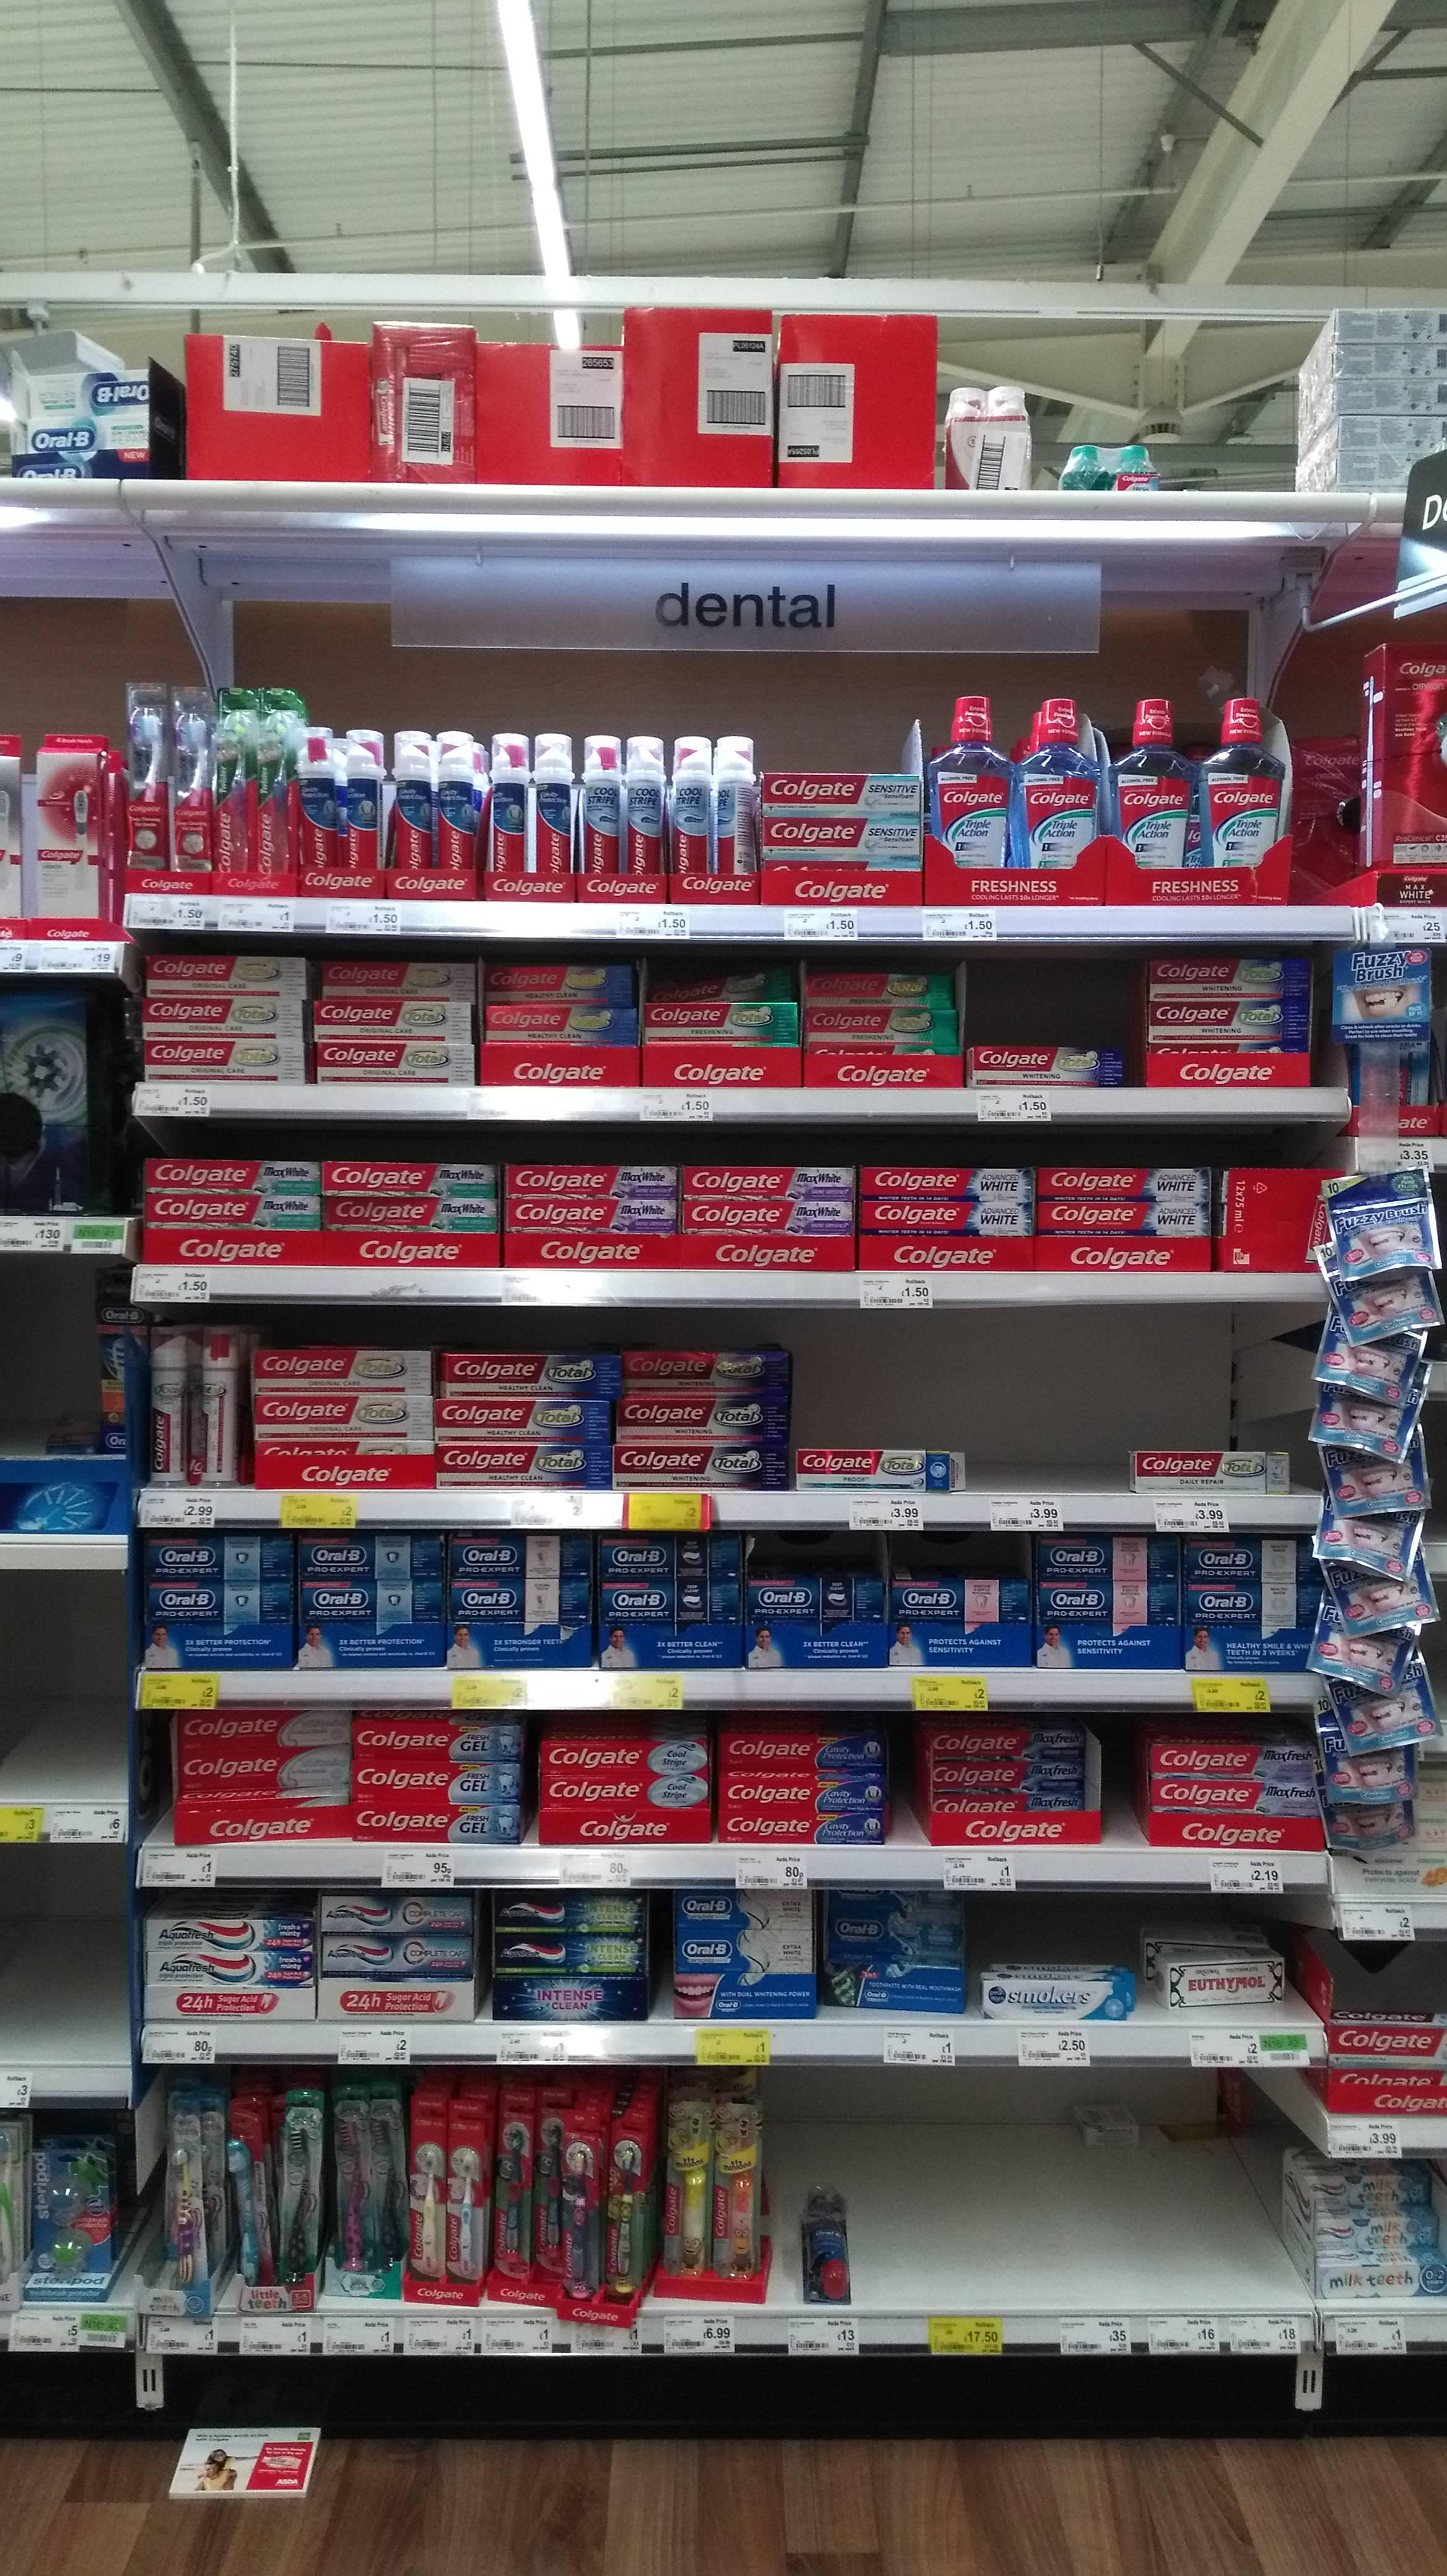misalignment: (4, 356, 188, 492), (555, 2116, 644, 2327), (170, 2413, 318, 2516), (784, 2176, 867, 2314), (1155, 1951, 1297, 2005), (1067, 2104, 1175, 2146)
